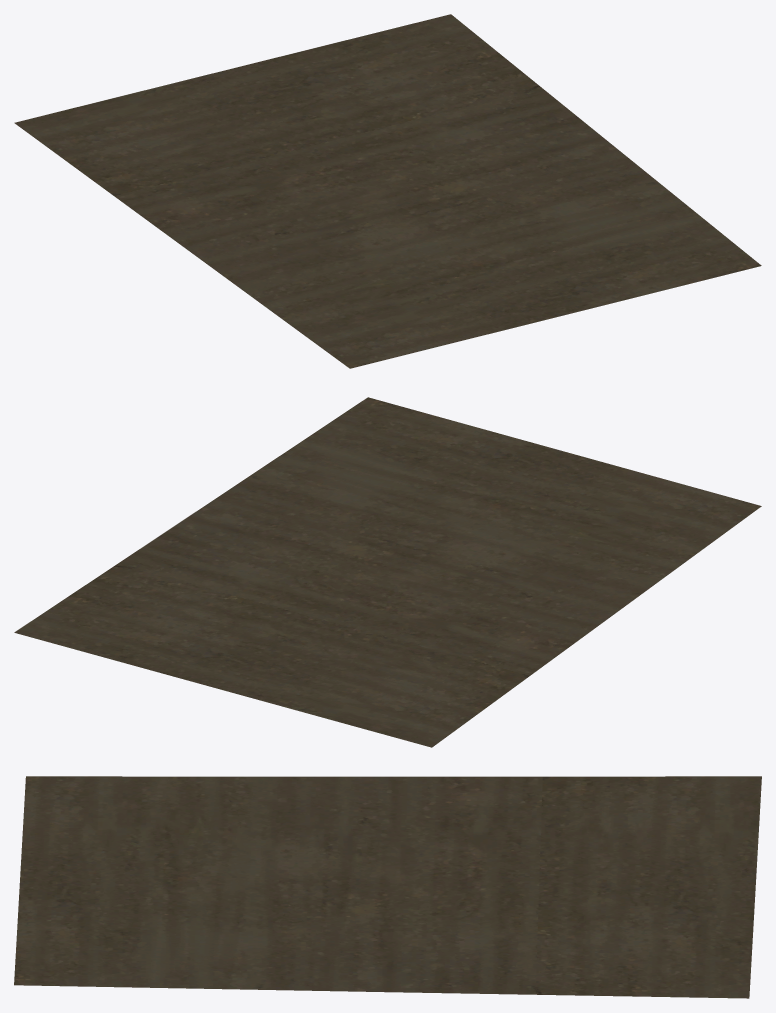
The model's file is blend_path09.fbx.
3 renders of one model, top to bottom at view 1: azimuth 30°, elevation 25°; view 2: azimuth 150°, elevation 25°; view 3: azimuth 270°, elevation 25°, orthographic. The views are drawn at different scales.
Parts seen in each view (by area): view 1: obj0.018; view 2: obj0.018; view 3: obj0.018.
Boxes of the visible parts, <box> form: obj0.018: <box>14,14,761,368</box>; obj0.018: <box>14,397,761,747</box>; obj0.018: <box>14,776,761,998</box>.
Bounding box in the file's own units: 3.97 × 0.0688 × 5.44.
